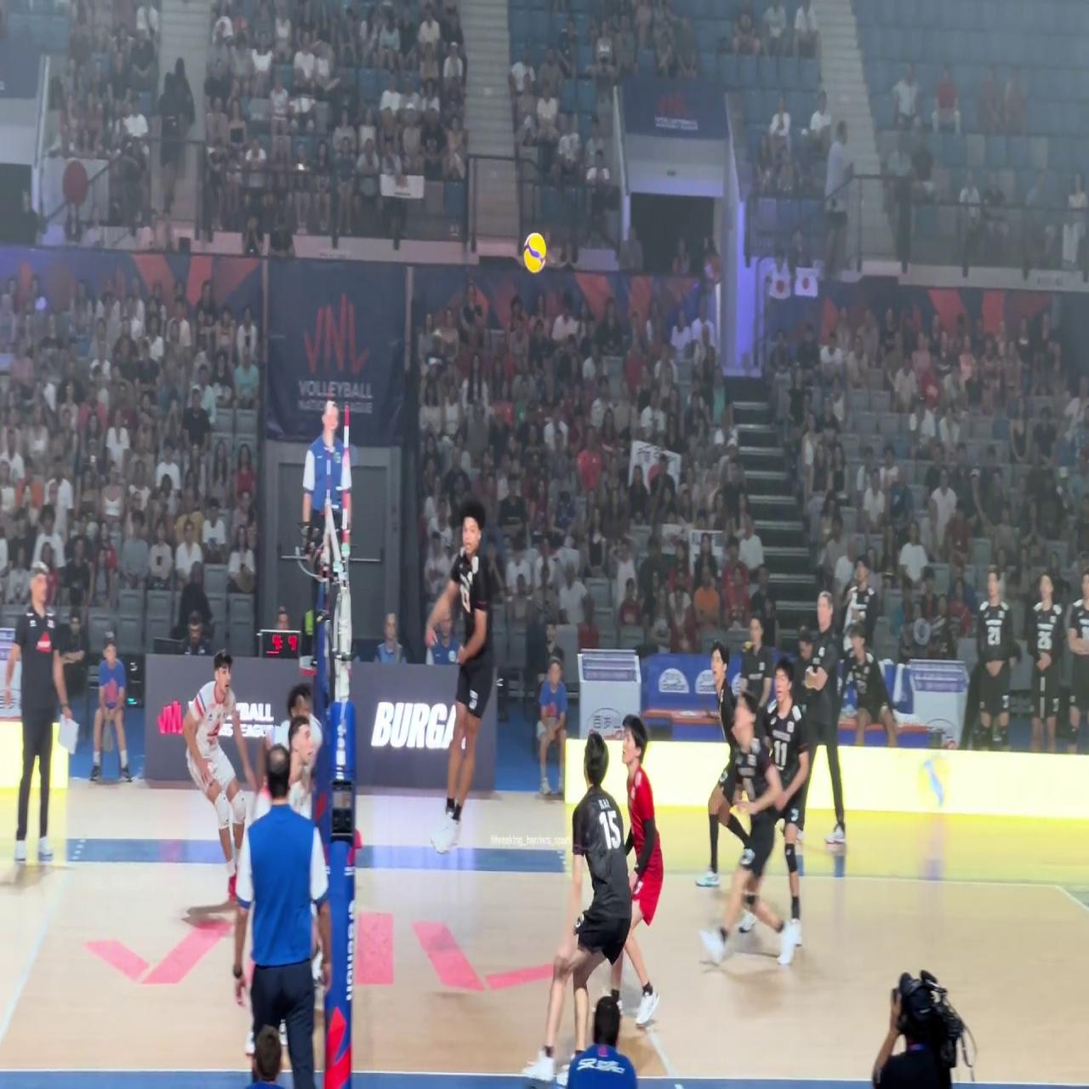ball: (524, 232, 547, 275)
